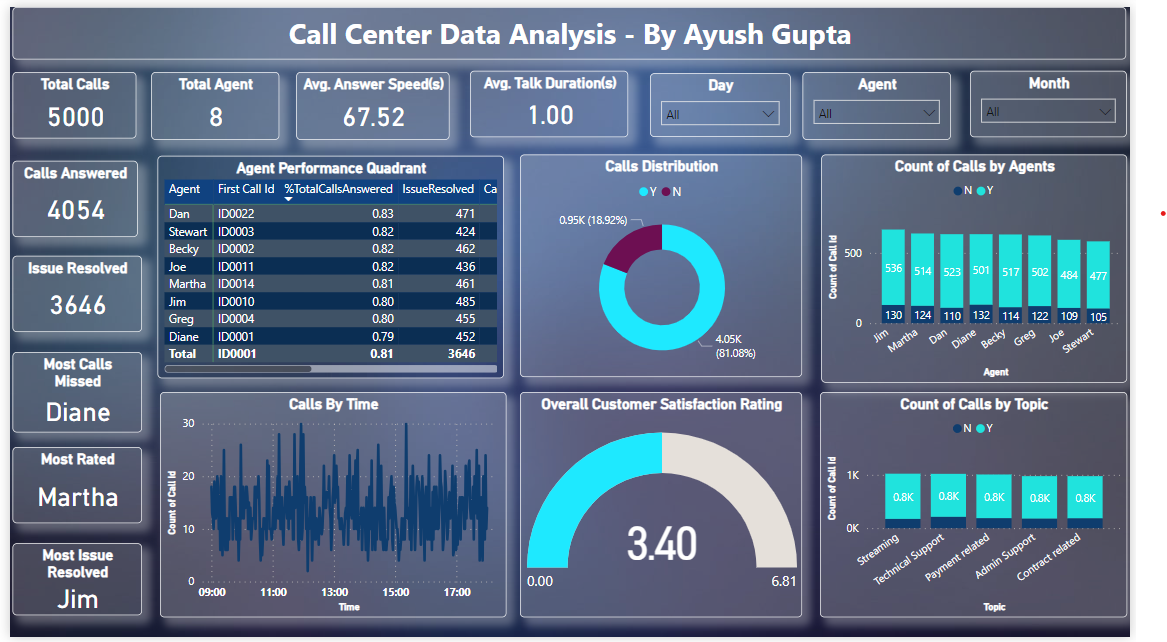

The page's visual inventory and layout, read from the dashboard file:
{"tool":"powerbi","page":{"name":"Page 1","canvas":[1280,720],"ordinal":0},"visuals":[{"type":"card","title":"Total Calls","fields":{"Values":["Sheet1.Call Id"]},"box":[3.2,74.7,141.5,76.3],"z":0},{"type":"card","title":"Calls Answered","fields":{"Values":["Call Center Data.CallsAnswered"]},"box":[3.2,176.4,143,87.4],"z":1000},{"type":"card","title":"Issue Resolved","fields":{"Values":["Call Center Data.IssueResolved"]},"box":[3.2,284.5,147.8,87.4],"z":2000},{"type":"card","title":"Total Agent","fields":{"Values":["Call Center Data.Agent"]},"box":[162.1,74.7,146.2,77.9],"z":3000},{"type":"card","title":"Avg. Answer Speed(s)","fields":{"Values":["Call Center Data.Speed of answer in seconds"]},"box":[327.4,74.7,174.8,77.9],"z":4000},{"type":"card","title":"Avg. Talk Duration(s)","fields":{"Values":["Call Center Data.AvgTalkDuration"]},"box":[526.1,73.1,181.2,76.3],"z":5000},{"type":"card","title":"Most Issue Resolved","fields":{"Values":["Call Center Data.Agent"]},"box":[3.2,613.5,147.8,82.6],"z":6000},{"type":"card","title":"Most Rated","fields":{"Values":["Call Center Data.Agent"]},"box":[3.2,502.3,147.8,87.4],"z":7000},{"type":"card","title":"Most Calls Missed","fields":{"Values":["Call Center Data.Agent"]},"box":[3.2,394.2,147.8,92.2],"z":8000},{"type":"slicer","title":"Agent","fields":{"Values":["Call Center Data.Agent"]},"box":[906.1,74.4,169.9,77.7],"z":9000},{"type":"slicer","title":"Month","fields":{"Values":["Call Center Data.MonthName"]},"box":[1097,72.8,179.6,76],"z":10000},{"type":"slicer","title":"Day","fields":{"Values":["Call Center Data.Date.Variation.Date Hierarchy.Day"]},"box":[731.1,76.3,160.5,73.1],"z":11000},{"type":"pivotTable","title":"Agent Performance Quadrant","fields":{"Rows":["Call Center Data.Agent"],"Values":["Call Center Data.Call Id","Call Center Data.%TotalCallsAnswered","Call Center Data.IssueResolved","Call Center Data.CallsAnswered","Call Center Data.AvgTalkDuration","Call Center Data.Satisfaction rating"]},"box":[168.5,170.1,395.8,254.3],"z":12000},{"type":"columnChart","title":"Count of Calls by Agents","fields":{"Category":["Call Center Data.Agent"],"Y":["Call Center Data.Call Id"],"Series":["Call Center Data.Answered (Y/N)"]},"box":[926.6,168.5,349.7,260.7],"z":13000},{"type":"gauge","title":"Overall Customer Satisfaction Rating","fields":{"Y":["Call Center Data.Satisfaction rating"]},"box":[583.3,440.3,322.6,257.5],"z":14000},{"type":"columnChart","title":"Count of Calls by Topic","fields":{"Category":["Call Center Data.Topic"],"Y":["Call Center Data.Call Id"],"Series":["Call Center Data.Answered (Y/N)"]},"box":[925,440.3,351.3,257.5],"z":15000},{"type":"donutChart","title":"Calls Distribution","fields":{"Category":["Call Center Data.Answered (Y/N)"],"Y":["Call Center Data.Call Id"]},"box":[583.3,168.5,322.6,254.3],"z":16000},{"type":"lineChart","title":"Calls By Time","fields":{"Category":["Call Center Data.Time"],"Y":["Call Center Data.Call Id"]},"box":[171.7,440.3,395.8,257.5],"z":17000},{"type":"textbox","box":[3.2,0,1273.1,60.4],"z":18000}]}

Visuals, with their boxes in screenshot pixels (x1, y1, x2, y2), scaled from the page's 1280x720 canvas onto the 1167x642 screenshot:
"Total Calls" card: select_region(3, 67, 132, 135)
"Calls Answered" card: select_region(3, 157, 133, 235)
"Issue Resolved" card: select_region(3, 254, 138, 332)
"Total Agent" card: select_region(148, 67, 281, 136)
"Avg. Answer Speed(s)" card: select_region(298, 67, 458, 136)
"Avg. Talk Duration(s)" card: select_region(480, 65, 645, 133)
"Most Issue Resolved" card: select_region(3, 547, 138, 621)
"Most Rated" card: select_region(3, 448, 138, 526)
"Most Calls Missed" card: select_region(3, 351, 138, 434)
"Agent" slicer: select_region(826, 66, 981, 136)
"Month" slicer: select_region(1000, 65, 1164, 133)
"Day" slicer: select_region(667, 68, 813, 133)
"Agent Performance Quadrant" pivotTable: select_region(154, 152, 514, 378)
"Count of Calls by Agents" columnChart: select_region(845, 150, 1164, 383)
"Overall Customer Satisfaction Rating" gauge: select_region(532, 393, 826, 622)
"Count of Calls by Topic" columnChart: select_region(843, 393, 1164, 622)
"Calls Distribution" donutChart: select_region(532, 150, 826, 377)
"Calls By Time" lineChart: select_region(157, 393, 517, 622)
textbox: select_region(3, 0, 1164, 54)
